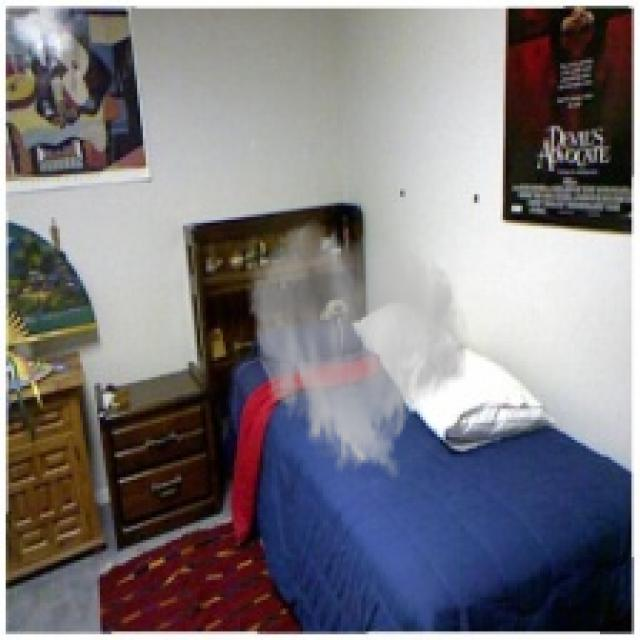smoke: (246, 217, 471, 483)
